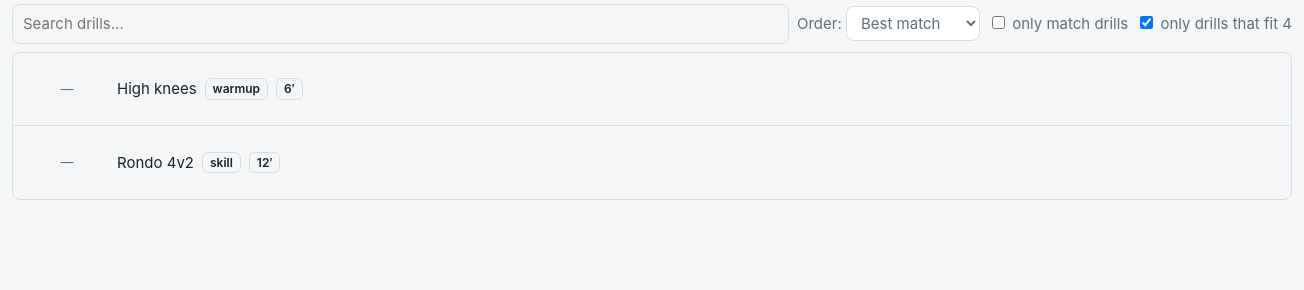
it: DrillPicker › lets the turnout filter be switched off, so a wrong turnout cannot empty the list
The width and height of the screenshot is (1304, 290).
What coordinates should you click on to do the following:
click the checkbox labelled "only drills that fit 4"
I would click on:
 (1147, 22)
Its box is [1140,16,1153,29].
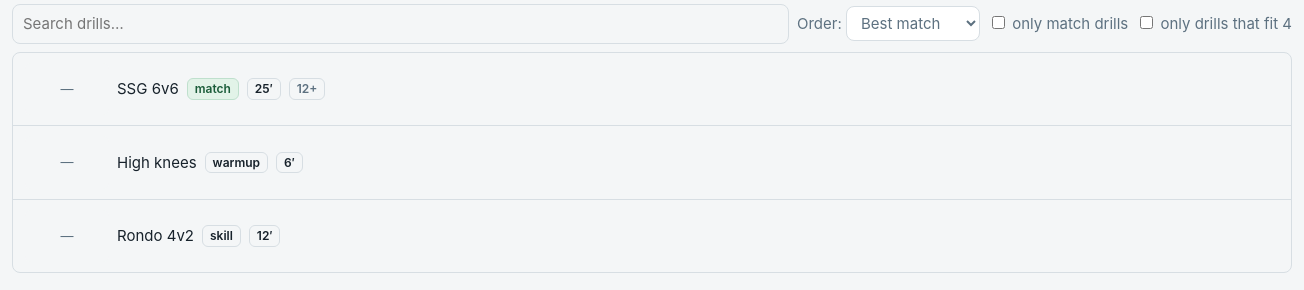
Expected: the text "SSG 6v6" is shown, [117,78,179,100]
